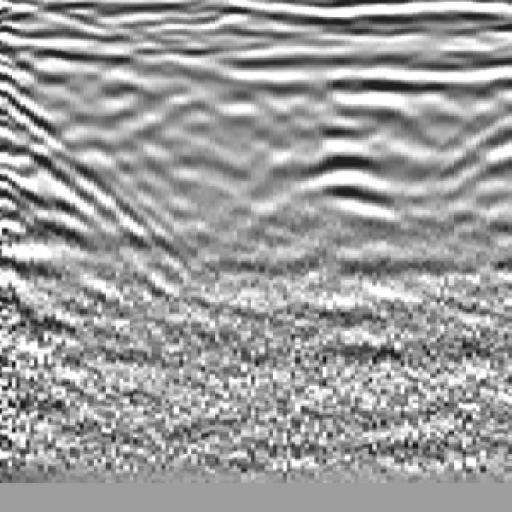metalic: (277, 37, 441, 285)
nonmetalic: (1, 42, 108, 273)
